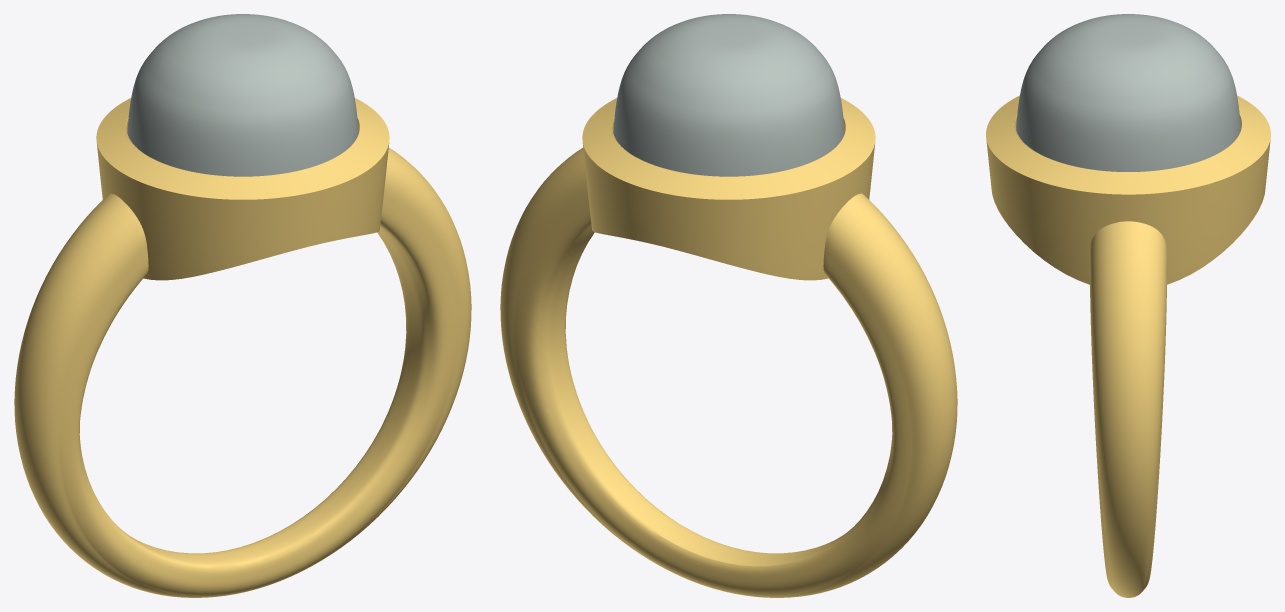
File: WendyYGmoonstone.glb
3 renders of one model, left to right at view 1: azimuth 30°, elevation 25°; view 2: azimuth 150°, elevation 25°; view 3: azimuth 270°, elevation 25°, orthographic. The views are drawn at different scales.
Parts seen in each view (by area): view 1: Wendy YG for 3d model, Moonstone for 3d model; view 2: Wendy YG for 3d model, Moonstone for 3d model; view 3: Wendy YG for 3d model, Moonstone for 3d model.
Part boxes in pixels (box(x1,y1,x2,y2)): Wendy YG for 3d model: box(14, 98, 471, 597); Moonstone for 3d model: box(127, 14, 358, 176); Wendy YG for 3d model: box(500, 98, 957, 597); Moonstone for 3d model: box(613, 14, 844, 176); Wendy YG for 3d model: box(986, 95, 1270, 597); Moonstone for 3d model: box(1016, 14, 1240, 171).
Size of the model in its own units: 22.64 by 26.92 by 12.84.
